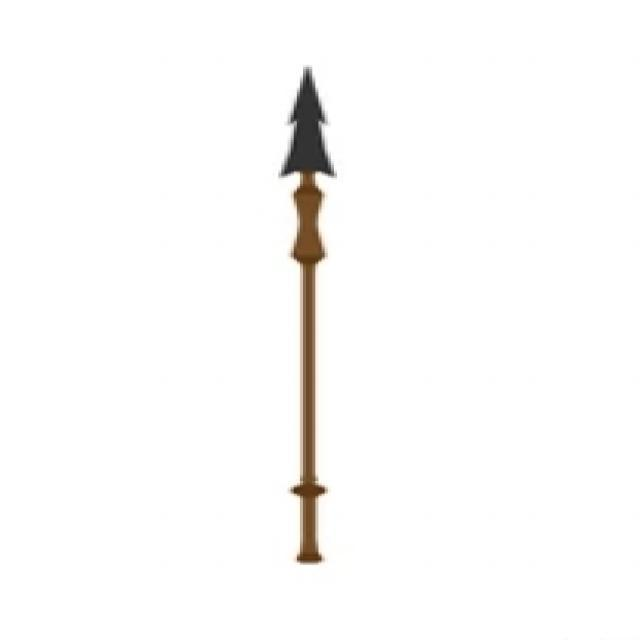spear: (261, 48, 367, 582)
